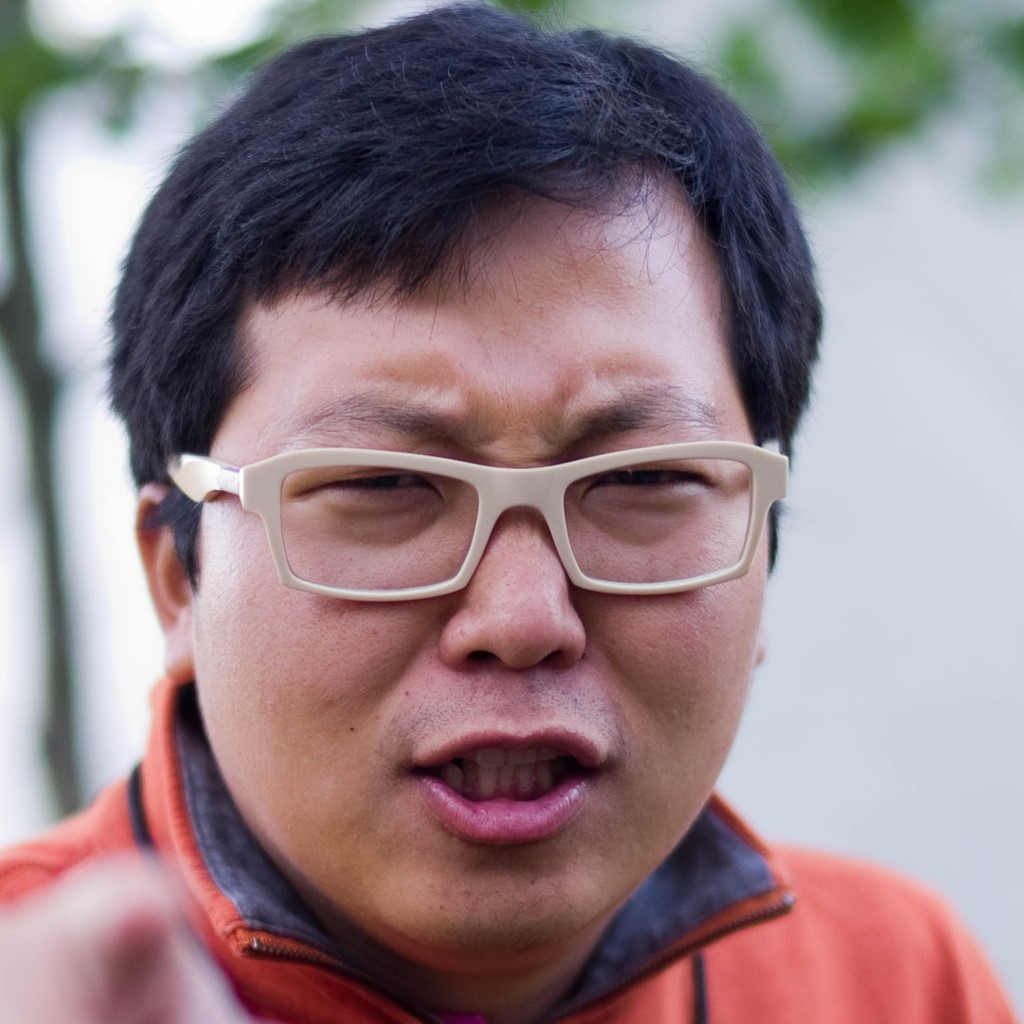sin_mascara: (137, 163, 808, 949)
